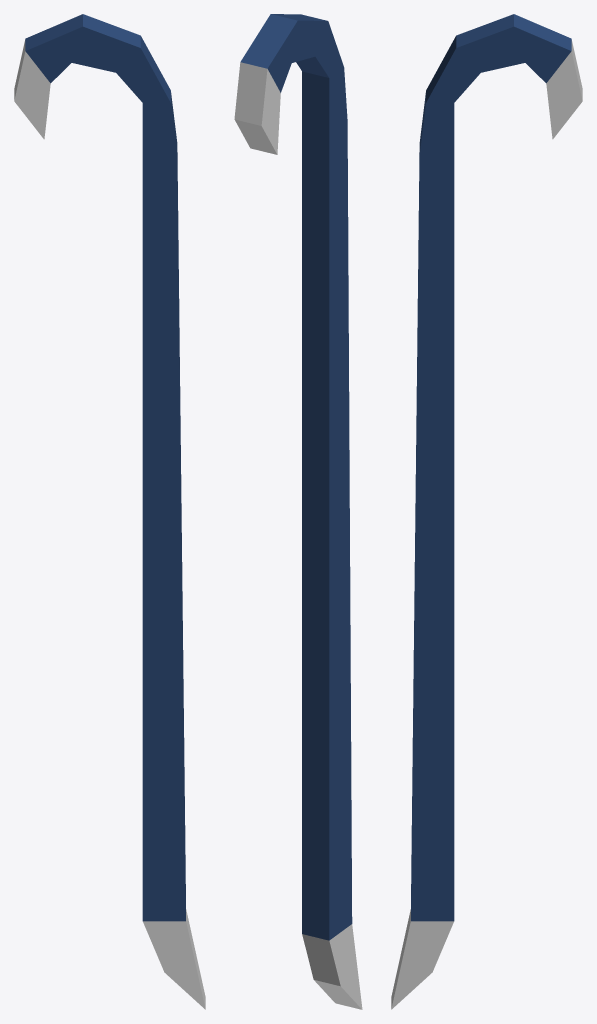
The model's file is MONTIROVKA.fbx.
3 renders of one model, left to right at view 1: azimuth 90°, elevation 25°; view 2: azimuth 150°, elevation 25°; view 3: azimuth 270°, elevation 25°, orthographic. The views are drawn at different scales.
Visible parts, largest first — view 1: Plane; view 2: Plane; view 3: Plane.
Part boxes in pixels (x1=…): Plane: x1=14, y1=14, x2=205, y2=1009; Plane: x1=234, y1=14, x2=362, y2=1009; Plane: x1=391, y1=14, x2=582, y2=1009.
Size of the model in its own units: 12.92 by 471 by 83.06.
